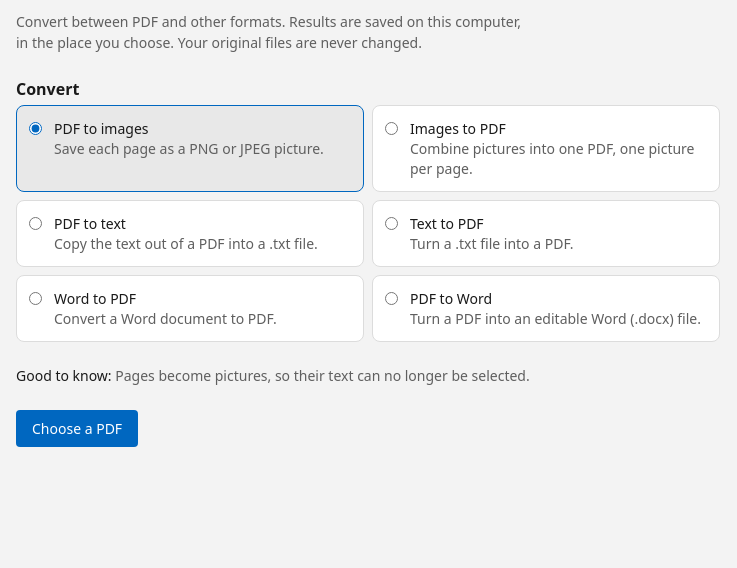
Test case: Convert page › says the built-in converter is used when LibreOffice is missing, and still lets you choose a file
What coordinates should you click on to do the following:
click the radio button labelled "Word to PDF Convert a Word document to PDF."
I would click on:
 (36, 298)
Its box is [29,292,42,305].
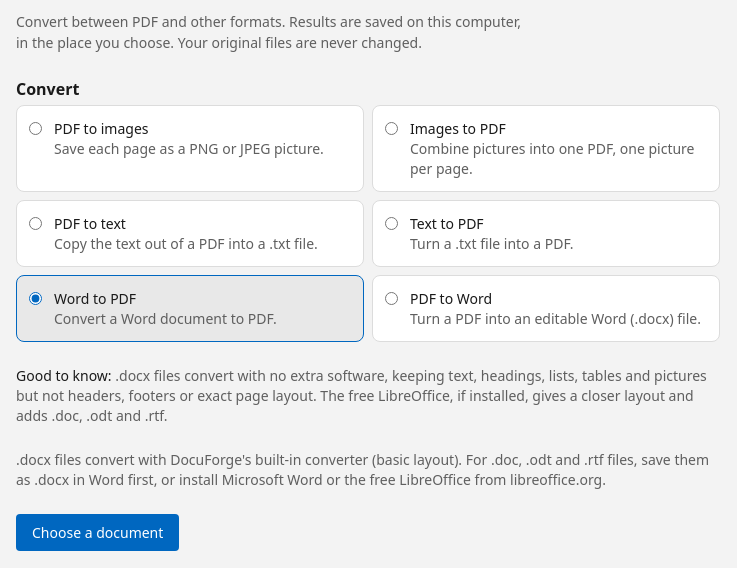
Check: the button "Choose a document" is enabled, box [16,514,179,551]
Check: the text "built-in converter (basic layout)" is shown, box [16,450,709,489]
